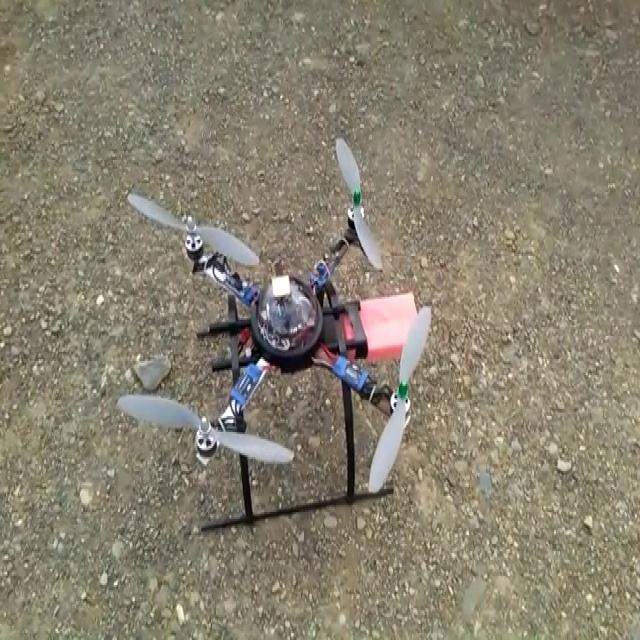drone: (114, 126, 432, 537)
